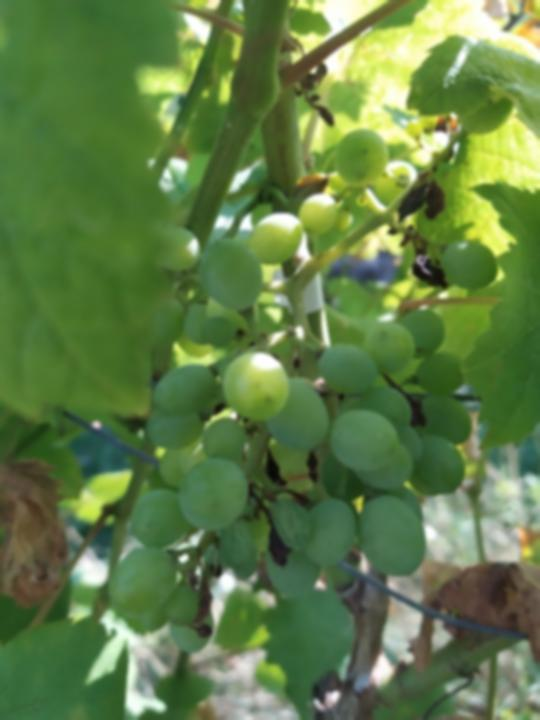grape: (104, 90, 517, 658)
